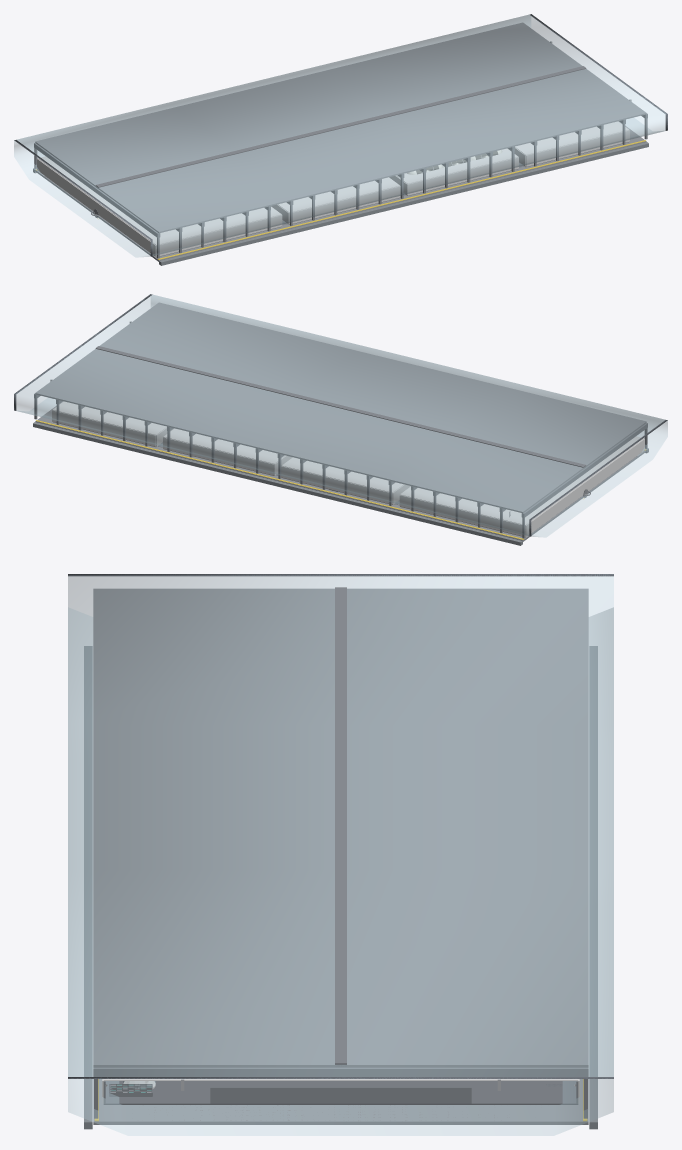
The model's file is dsx-02_deck_04_engineering.glb.
3 renders of one model, top to bottom at view 1: azimuth 30°, elevation 25°; view 2: azimuth 150°, elevation 25°; view 3: azimuth 270°, elevation 25°, orthographic. The views are drawn at different scales.
Parts seen in each view (by area): view 1: DECK04_HullBand, DECK04_CeilingFrame, DECK04_DeckPlate, DECK04_Room_MainEngineering, DECK04_Room_MachineShop, DECK04_Room_PropellantHandling, DECK04_Room_Stores; view 2: DECK04_HullBand, DECK04_CeilingFrame, DECK04_DeckPlate, DECK04_Room_MainEngineering, DECK04_Room_MachineShop, DECK04_Room_PropellantHandling, DECK04_Room_Stores; view 3: DECK04_HullBand, DECK04_CeilingFrame, DECK04_DeckPlate, DECK04_Room_Stores.
Part boxes in pixels (left/top/right/bottom): DECK04_HullBand: left=14, top=14, right=667, bottom=257; DECK04_CeilingFrame: left=34, top=22, right=647, bottom=258; DECK04_DeckPlate: left=33, top=121, right=648, bottom=265; DECK04_Room_MainEngineering: left=37, top=156, right=282, bottom=257; DECK04_Room_MachineShop: left=271, top=177, right=400, bottom=224; DECK04_Room_PropellantHandling: left=389, top=148, right=518, bottom=195; DECK04_Room_Stores: left=507, top=121, right=629, bottom=166; DECK04_HullBand: left=14, top=294, right=667, bottom=537; DECK04_CeilingFrame: left=34, top=302, right=647, bottom=538; DECK04_DeckPlate: left=33, top=401, right=648, bottom=545; DECK04_Room_MainEngineering: left=399, top=436, right=644, bottom=537; DECK04_Room_MachineShop: left=281, top=457, right=410, bottom=504; DECK04_Room_PropellantHandling: left=163, top=428, right=292, bottom=475; DECK04_Room_Stores: left=52, top=401, right=174, bottom=446; DECK04_HullBand: left=68, top=574, right=613, bottom=1135; DECK04_CeilingFrame: left=93, top=587, right=588, bottom=1118; DECK04_DeckPlate: left=84, top=646, right=597, bottom=1129; DECK04_Room_Stores: left=102, top=1079, right=579, bottom=1104.
Size of the model in its own units: 140 by 8.5 by 64.
